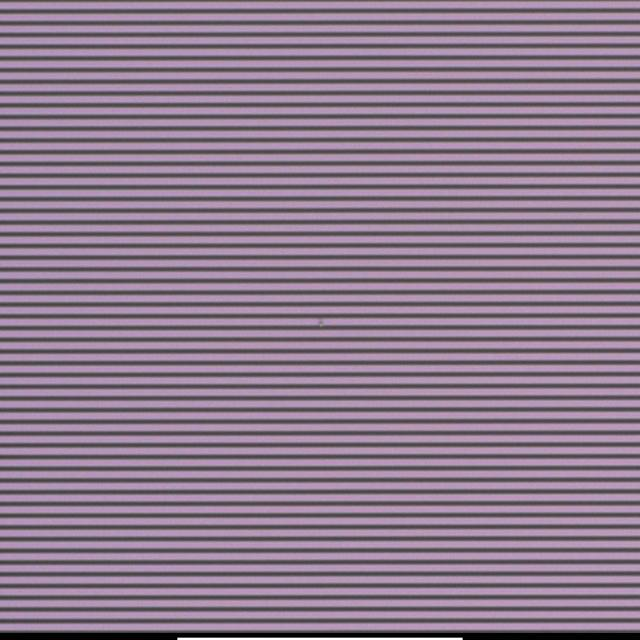03_intrusion: (316, 316, 328, 331)
